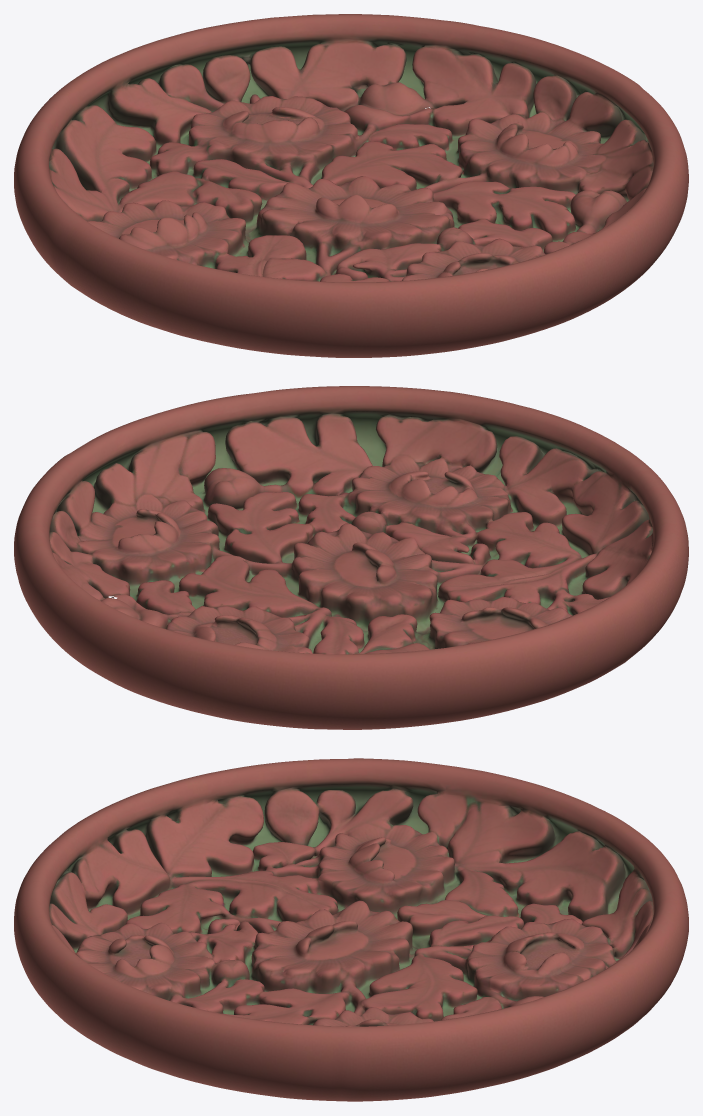
The model's file is 剔紅菊花圓盤.glb.
3 views of the same model, one above another, from view 1: azimuth 30°, elevation 25°; view 2: azimuth 150°, elevation 25°; view 3: azimuth 270°, elevation 25° (orthographic).
Visible parts, largest first — view 1: tripo_node_d6a6e623; view 2: tripo_node_d6a6e623; view 3: tripo_node_d6a6e623.
Boxes of the visible parts, <box> form: tripo_node_d6a6e623: <box>14,14,688,357</box>; tripo_node_d6a6e623: <box>14,386,688,729</box>; tripo_node_d6a6e623: <box>14,758,688,1101</box>.
Size of the model in its own units: 97.92 by 13.63 by 97.63.
Materials: 1 (1 with a texture image).
